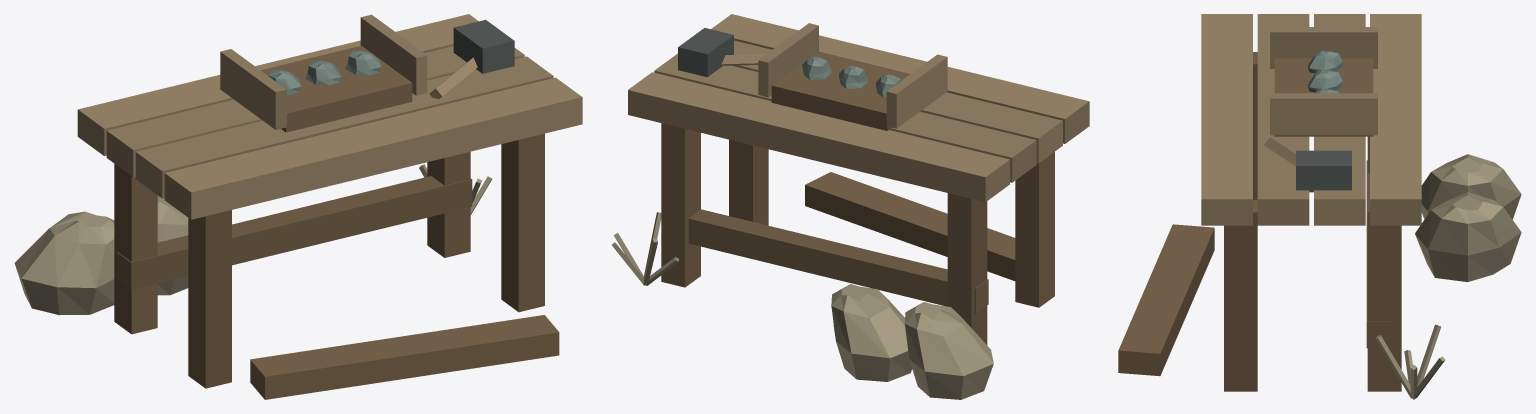
The model's file is mining-workbench.glb.
The picture shows the model from 3 angles, left to right: view 1: azimuth 30°, elevation 25°; view 2: azimuth 150°, elevation 25°; view 3: azimuth 270°, elevation 25°; orthographic projection. The views are drawn at different scales.
Visible parts, largest first — view 1: mining-workbench; view 2: mining-workbench; view 3: mining-workbench.
Boxes of the visible parts, left/top/right/bottom form: mining-workbench: left=14, top=14, right=582, bottom=399; mining-workbench: left=612, top=14, right=1089, bottom=399; mining-workbench: left=1118, top=14, right=1521, bottom=399.
Bounding box in the file's own units: 2.21 × 1.23 × 1.79.
